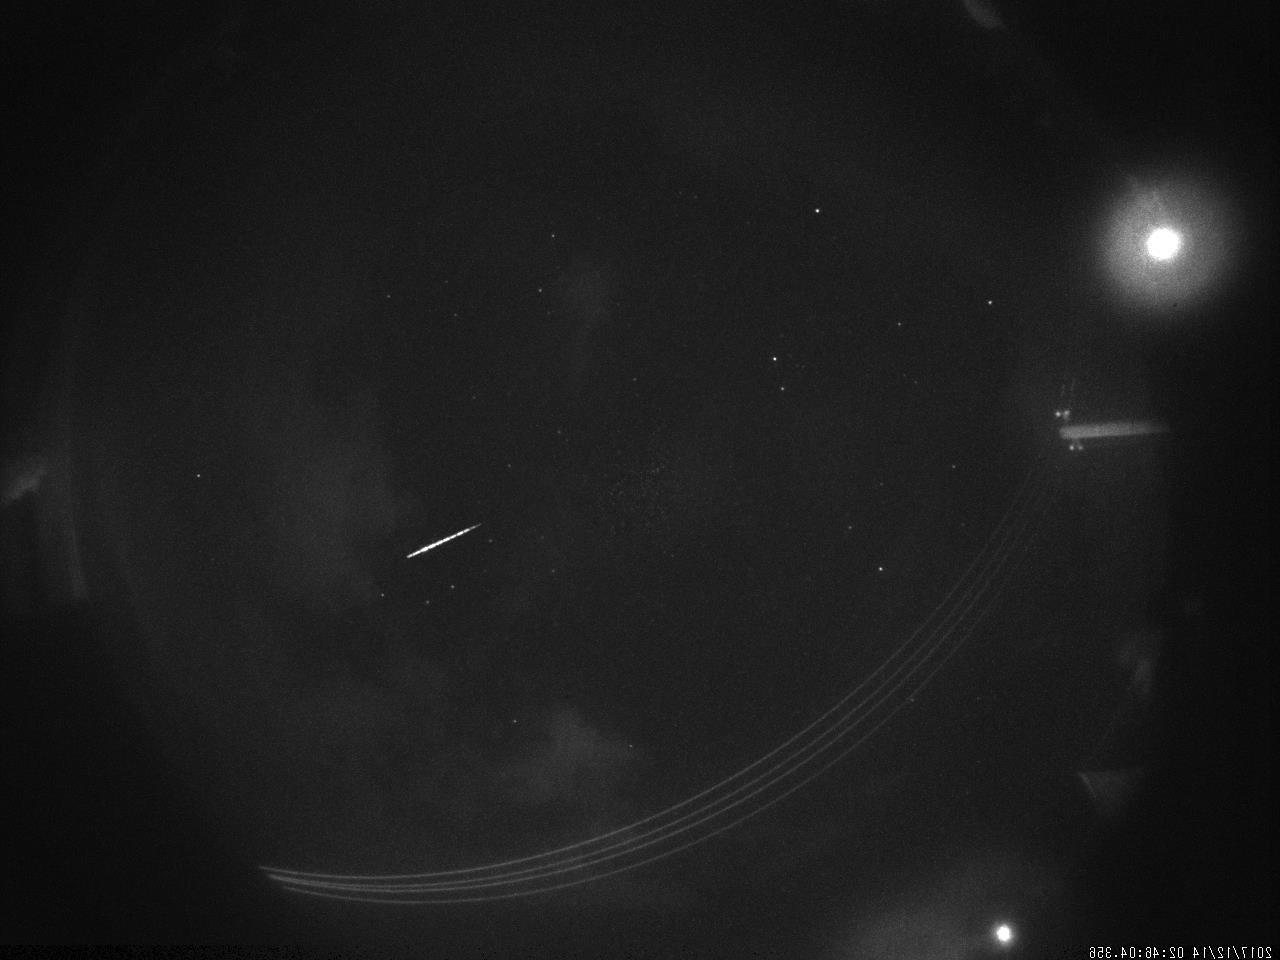meteor: (368, 484, 528, 597)
